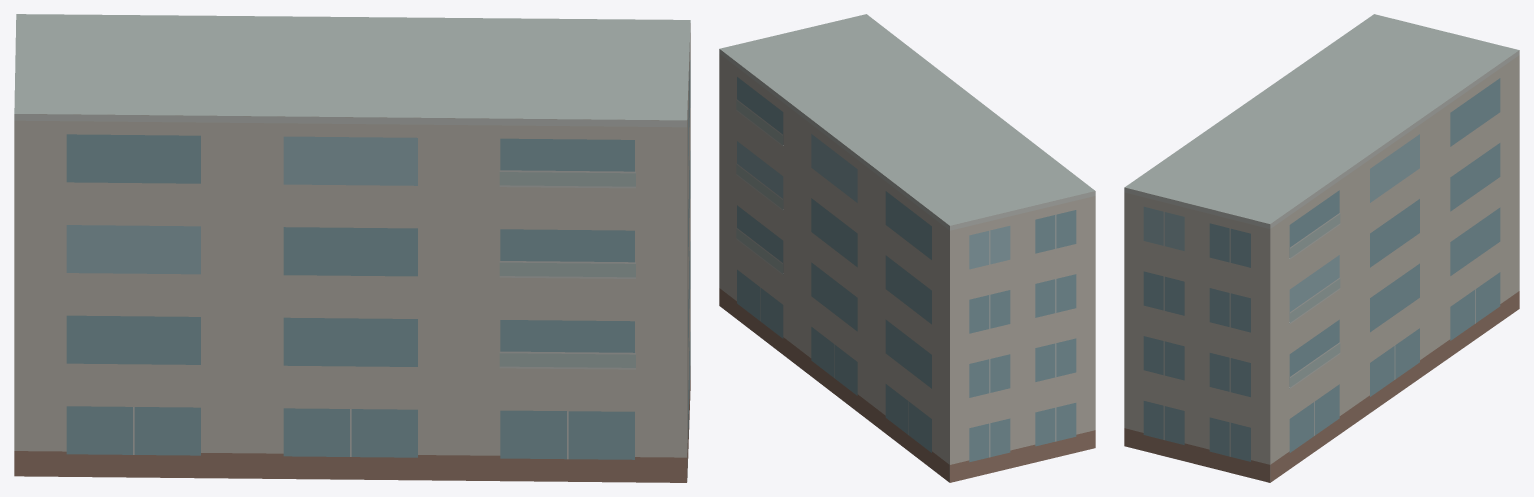
File: survey-upis-32654290.glb
3 renders of one model, left to right at view 1: azimuth 30°, elevation 25°; view 2: azimuth 150°, elevation 25°; view 3: azimuth 270°, elevation 25°, orthographic. The views are drawn at different scales.
Parts seen in each view (by area): view 1: survey-upis-32654290.tmp; view 2: survey-upis-32654290.tmp; view 3: survey-upis-32654290.tmp.
Boxes of the visible parts, <box> form: survey-upis-32654290.tmp: <box>14,14,690,482</box>; survey-upis-32654290.tmp: <box>719,14,1095,482</box>; survey-upis-32654290.tmp: <box>1124,14,1519,482</box>.
Size of the model in its own units: 22.31 by 12.8 by 17.72.
